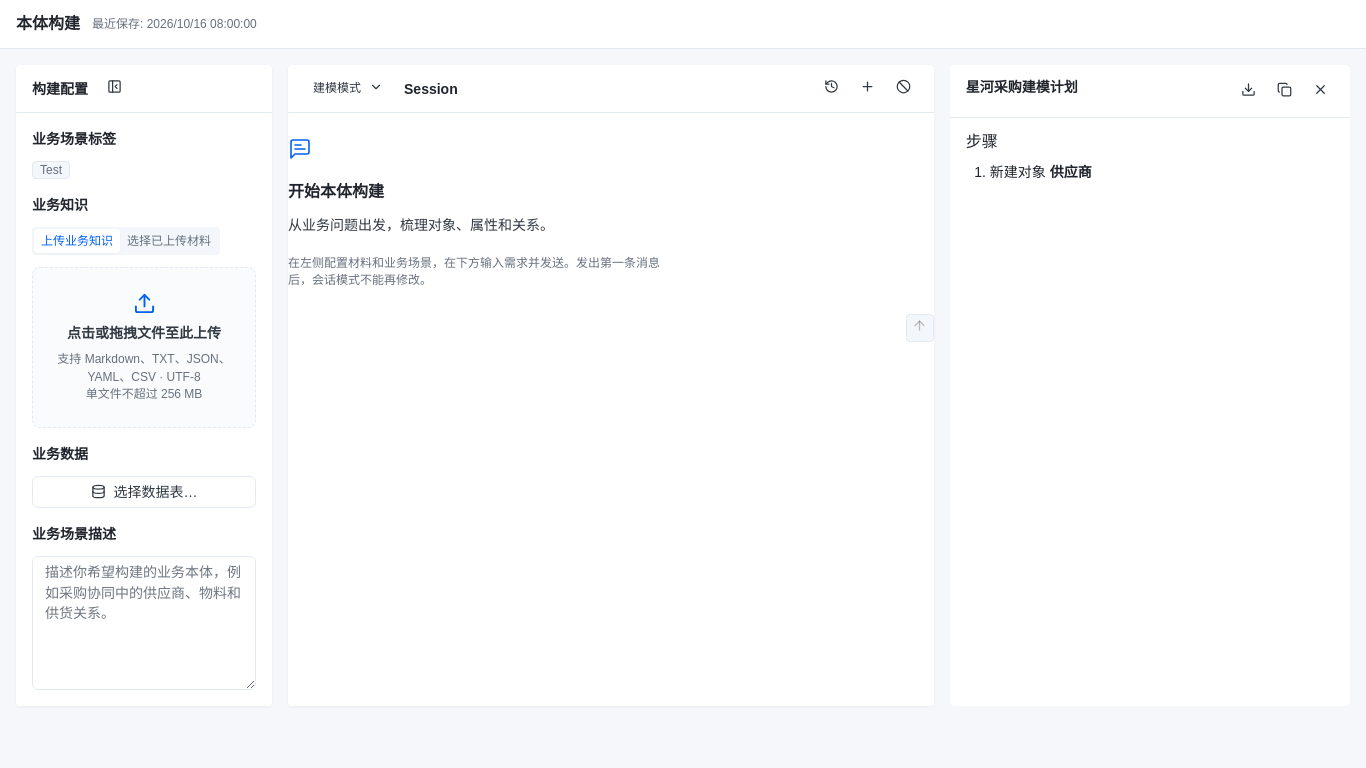
Scenario: opens an expanded plan in the results column and closes back
This screenshot has width=1366, height=768.
Expected: the button named "发送" is shown, [906,314,934,342]
Expected: the text "供应商" is shown, [1050,164,1092,180]
Click the button named "关闭计划" at (1320, 91), box [1306,77,1334,105]
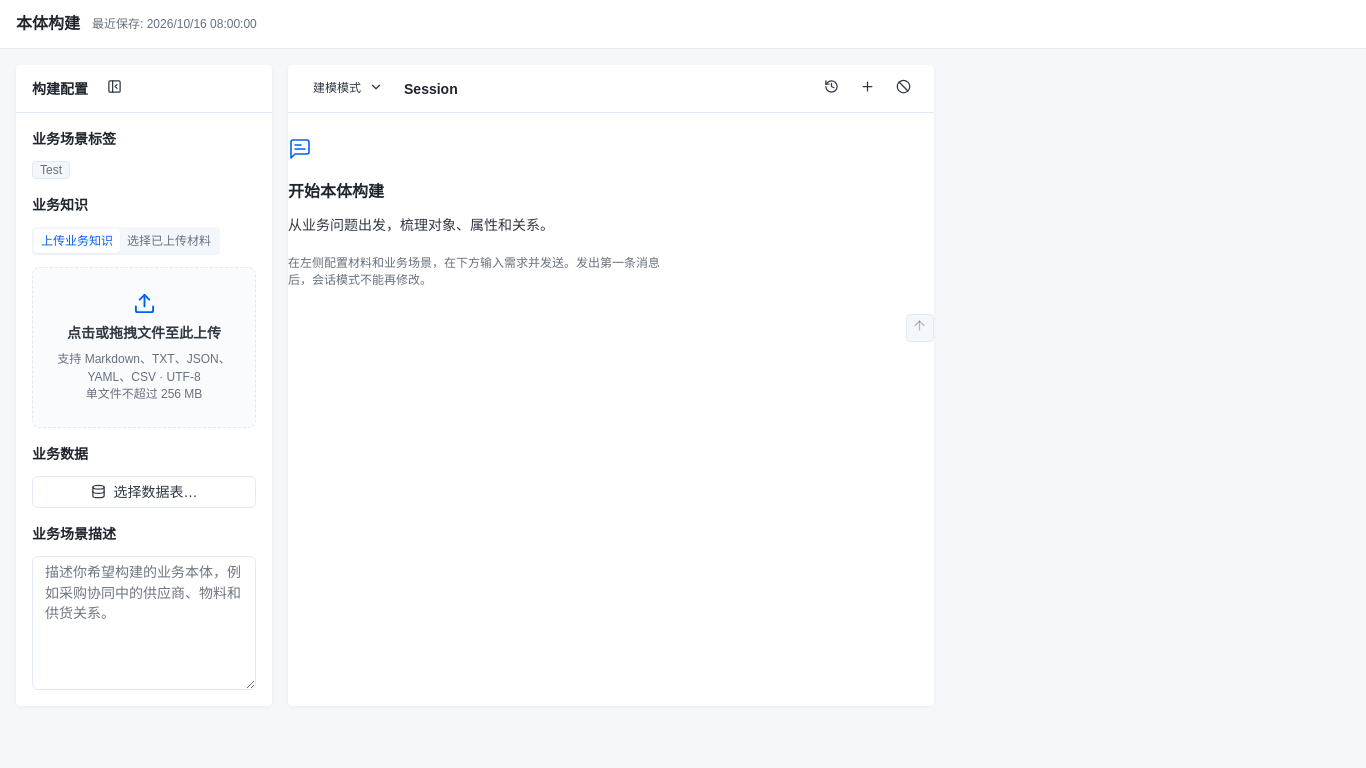
Expected: the heading "星河采购建模计划" is gone
